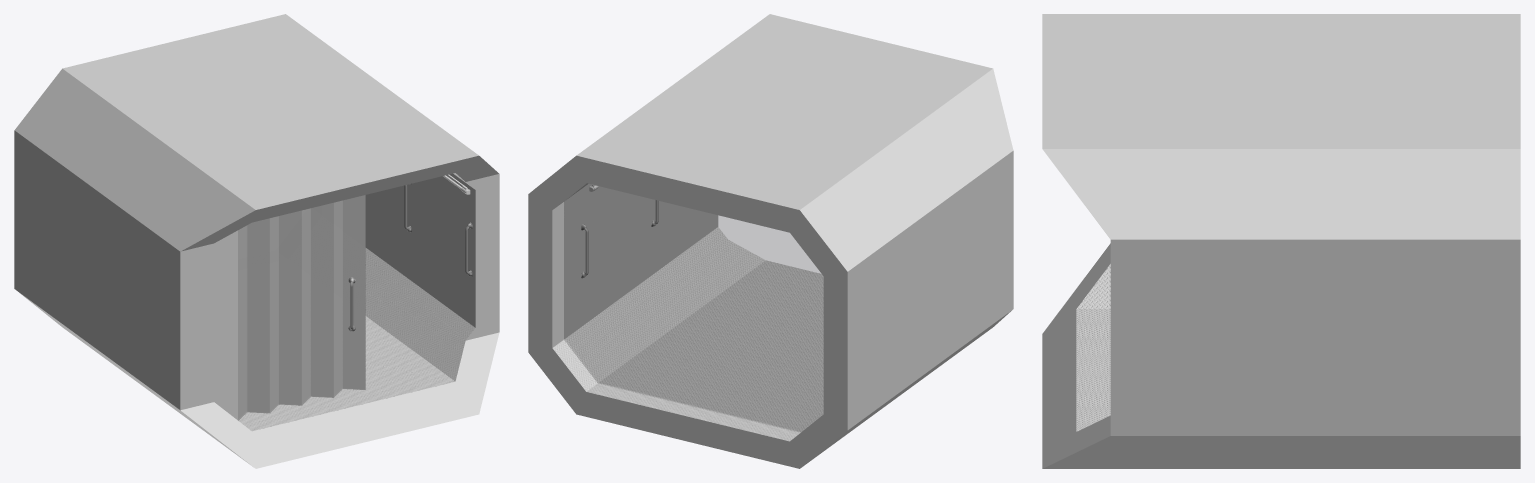
The model's file is ARKHA_Recreacion_L1_V1.glb.
The picture shows the model from 3 angles, left to right: view 1: azimuth 30°, elevation 25°; view 2: azimuth 150°, elevation 25°; view 3: azimuth 270°, elevation 25°; orthographic projection. The views are drawn at different scales.
Visible parts, largest first — view 1: 3DGeom-2, 3DGeom-29, 3DGeom-4, 3DGeom-60; view 2: 3DGeom-2, 3DGeom-1, 3DGeom-4; view 3: 3DGeom-2, 3DGeom-4.
Boxes of the visible parts, box(x1,y1,x2,y2) form: 3DGeom-2: box(14, 14, 499, 468); 3DGeom-29: box(238, 195, 365, 420); 3DGeom-4: box(238, 248, 474, 431); 3DGeom-60: box(204, 230, 237, 420); 3DGeom-2: box(528, 14, 1013, 468); 3DGeom-1: box(564, 183, 823, 431); 3DGeom-4: box(552, 227, 823, 441); 3DGeom-2: box(1042, 14, 1520, 468); 3DGeom-4: box(1076, 264, 1110, 431).
Bounding box in the file's own units: 4 × 3.1 × 4.2.
12 materials, 5 textured.
